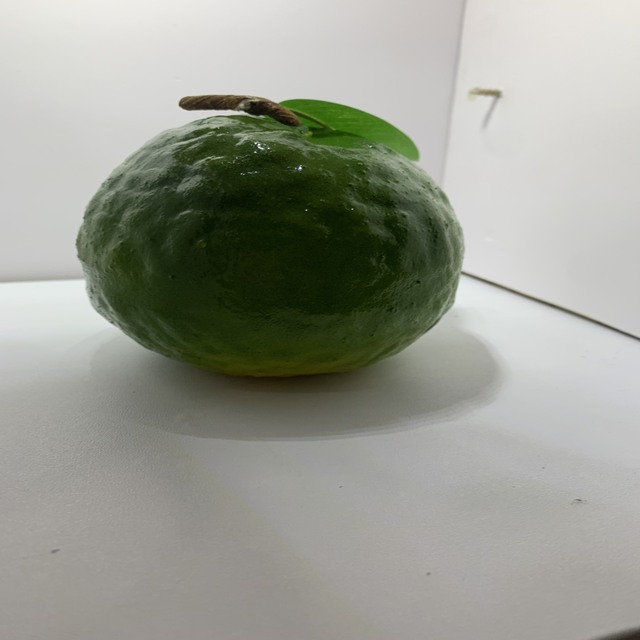Cam xanh: (70, 86, 474, 388)
